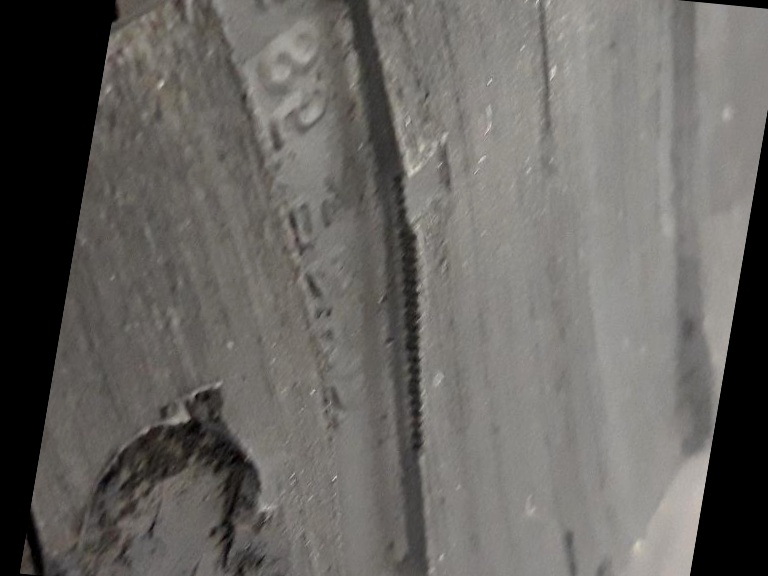temoin:0: (370, 123, 477, 256)
